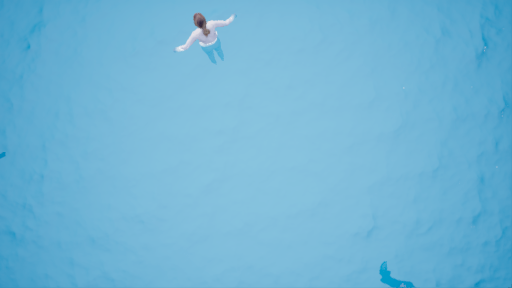person: (175, 12, 237, 67)
